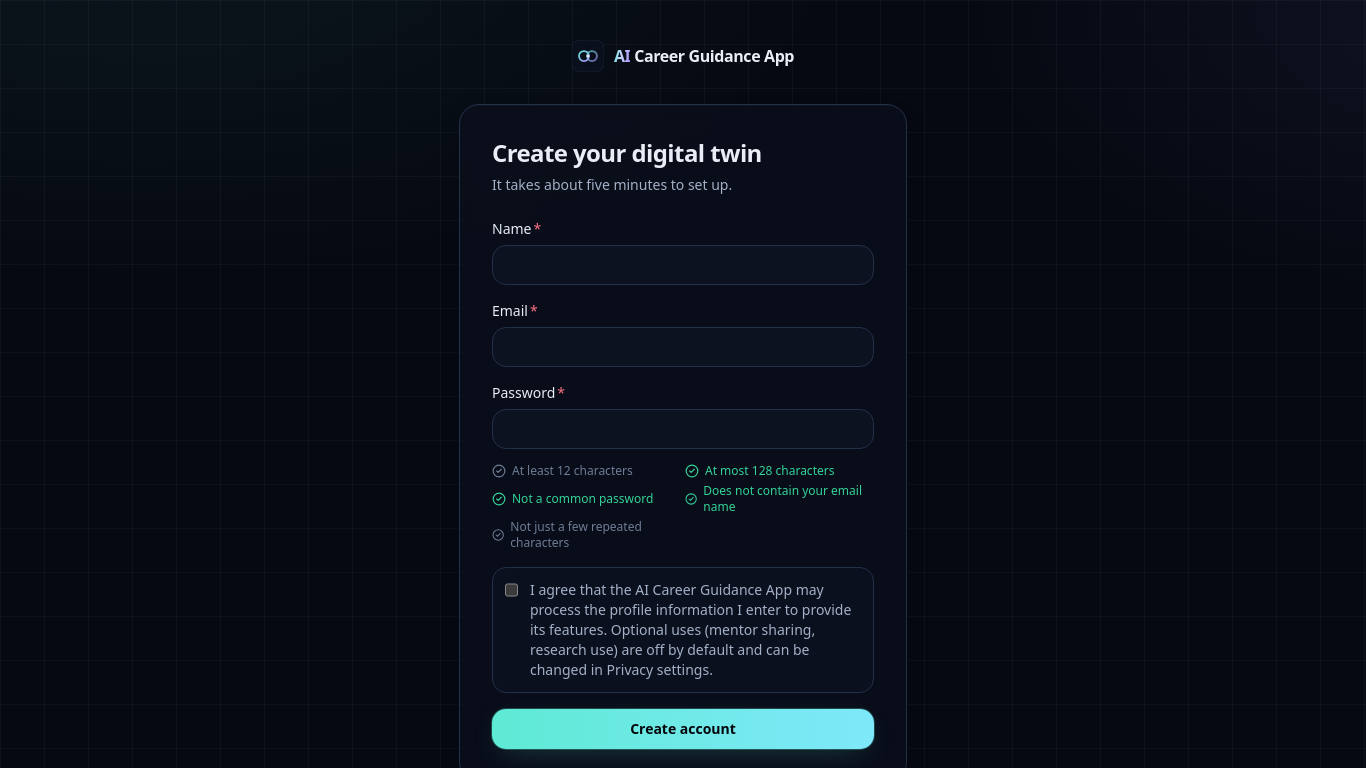
RegisterPage › shows the same neutral confirmation regardless of account existence
In the field labelled "Name*": coordinates (683, 265) [492, 245, 874, 285], type "Asha Kulkarni"
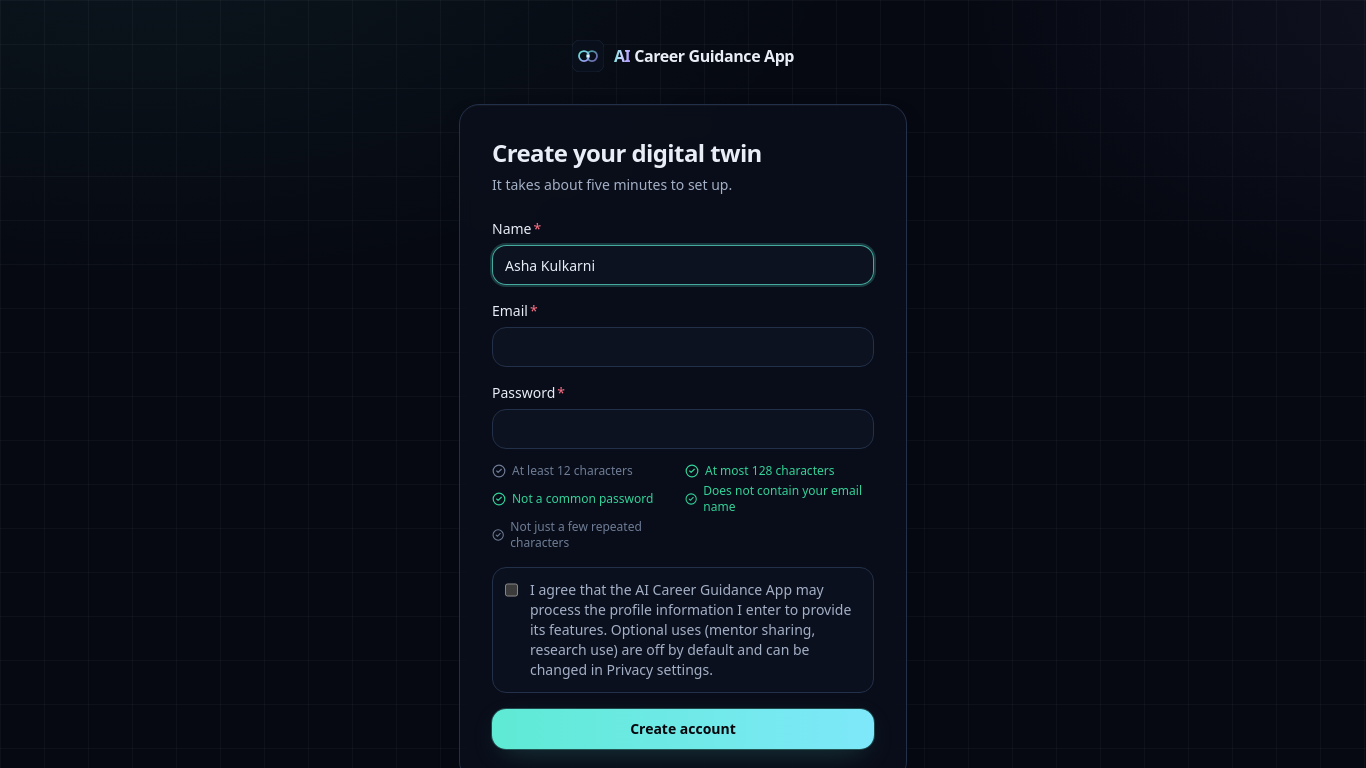
In the field labelled "Email*": coordinates (683, 347) [492, 327, 874, 367], type "asha@example.edu"
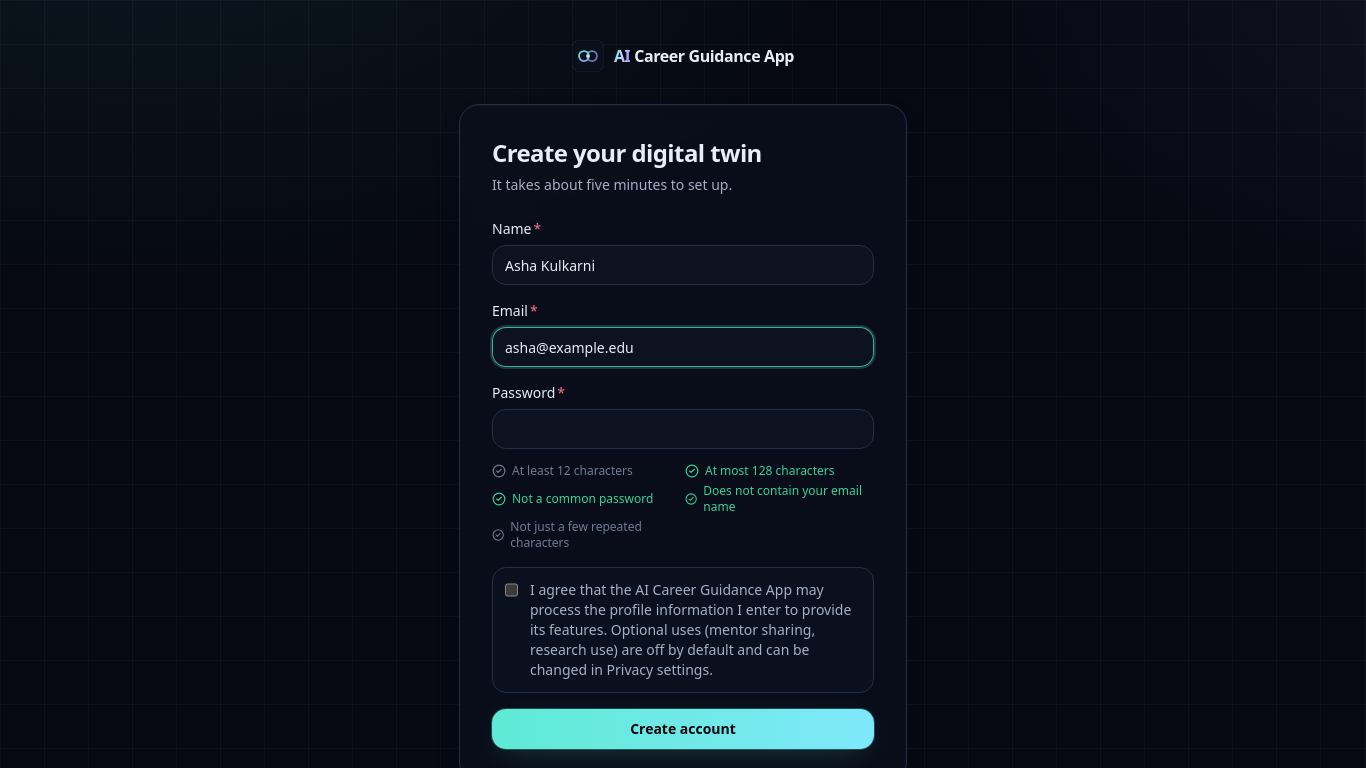
In the password field labelled "Password*": coordinates (683, 429) [492, 409, 874, 449], type "correct-horse-battery-staple"
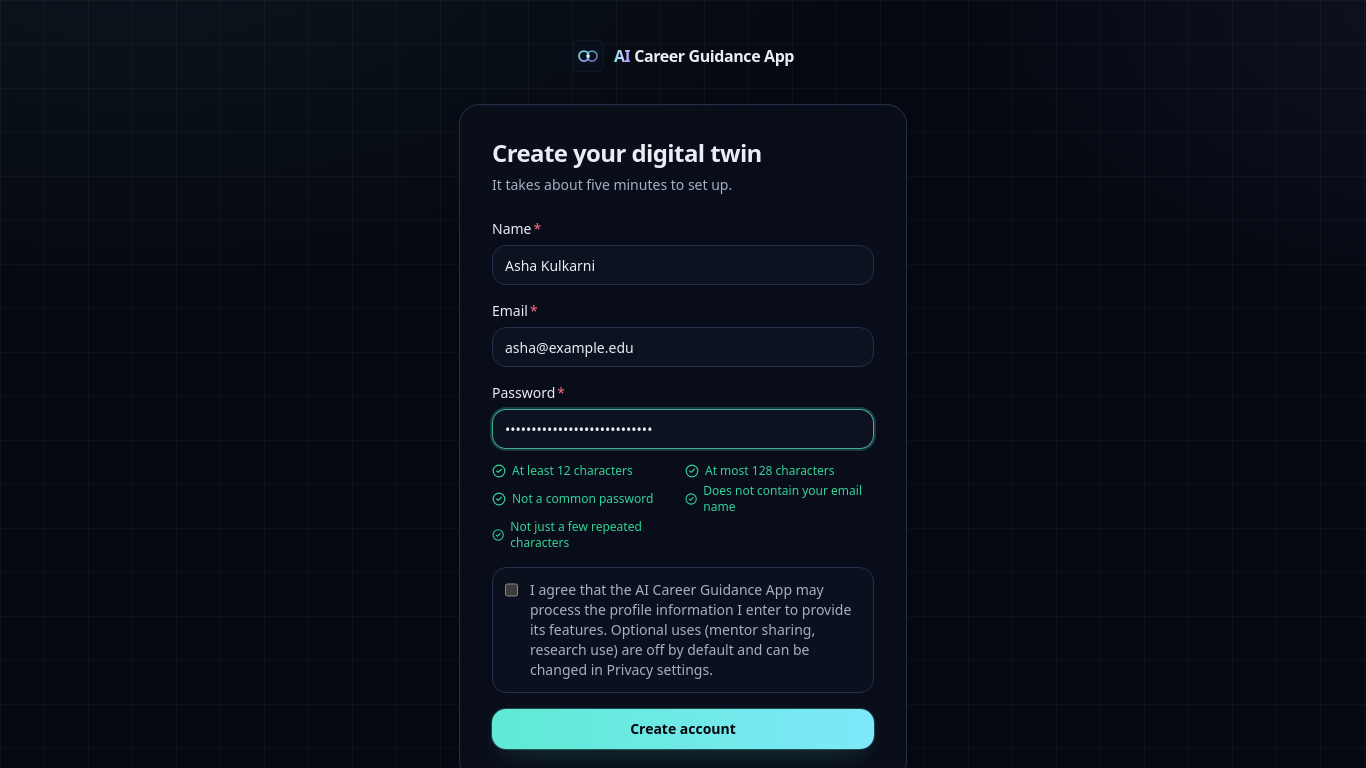
Click the checkbox: coordinates (512, 590) [505, 582, 518, 598]
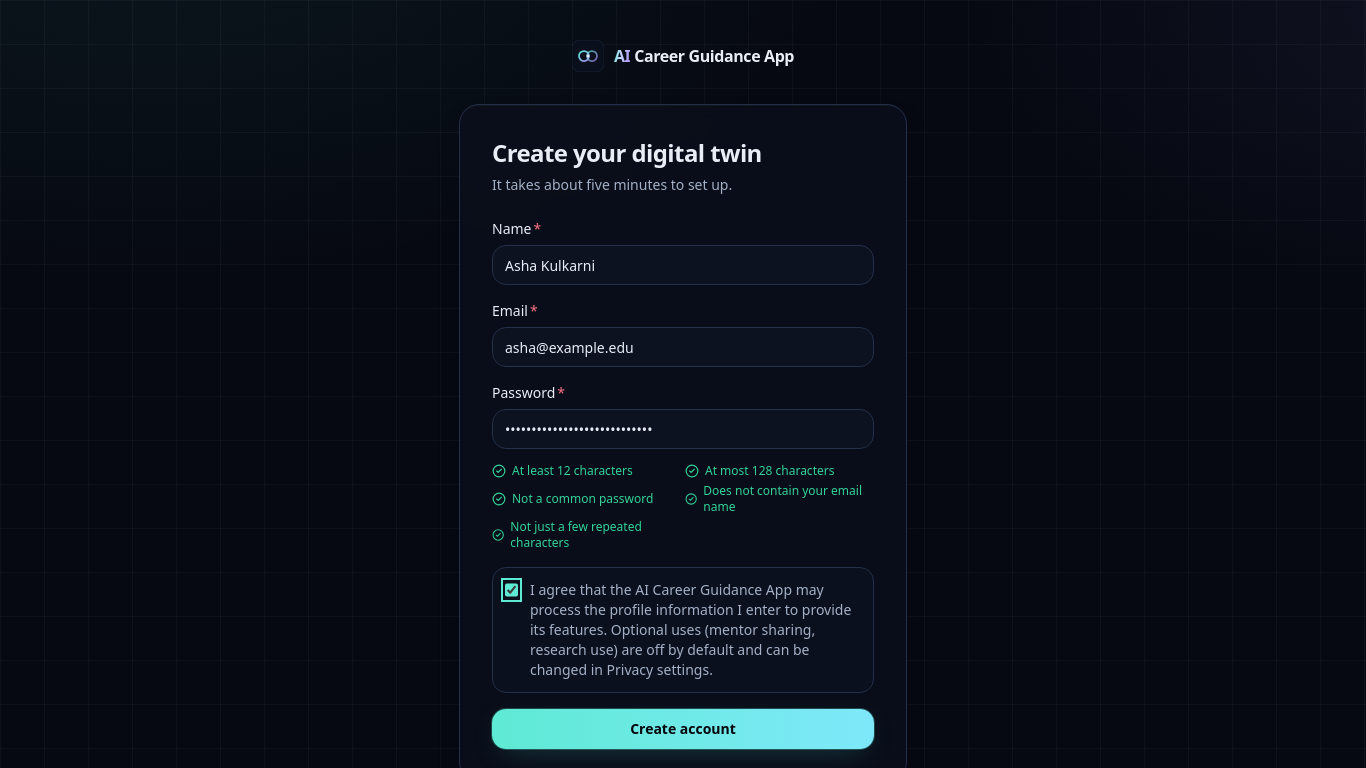
Click the button "Create account": coordinates (683, 729) [492, 709, 874, 749]
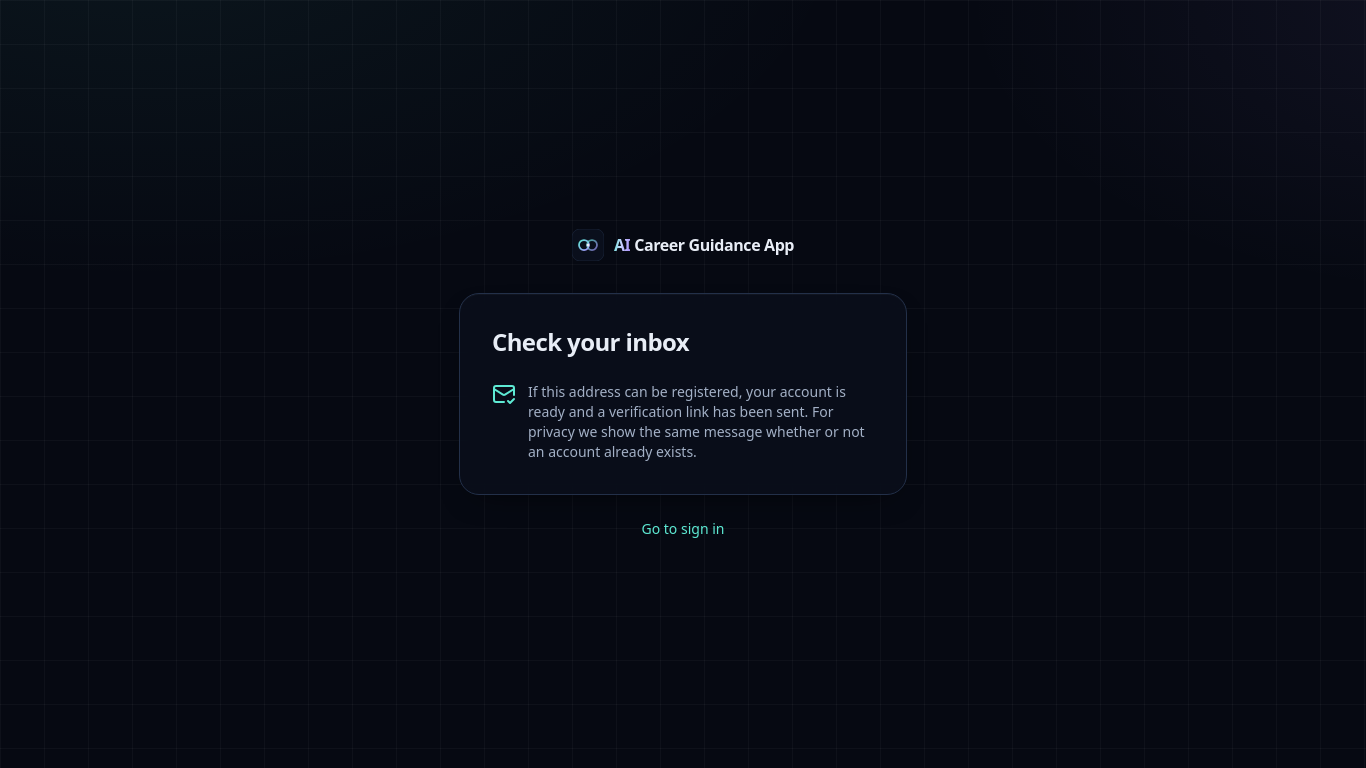
Now the text "same message whether or not an account already exists" is shown, box [528, 382, 865, 461]
